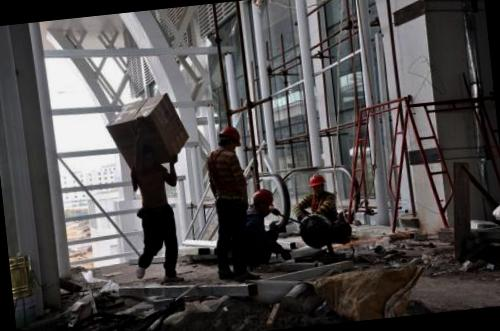no_helmet: (137, 144, 156, 170)
